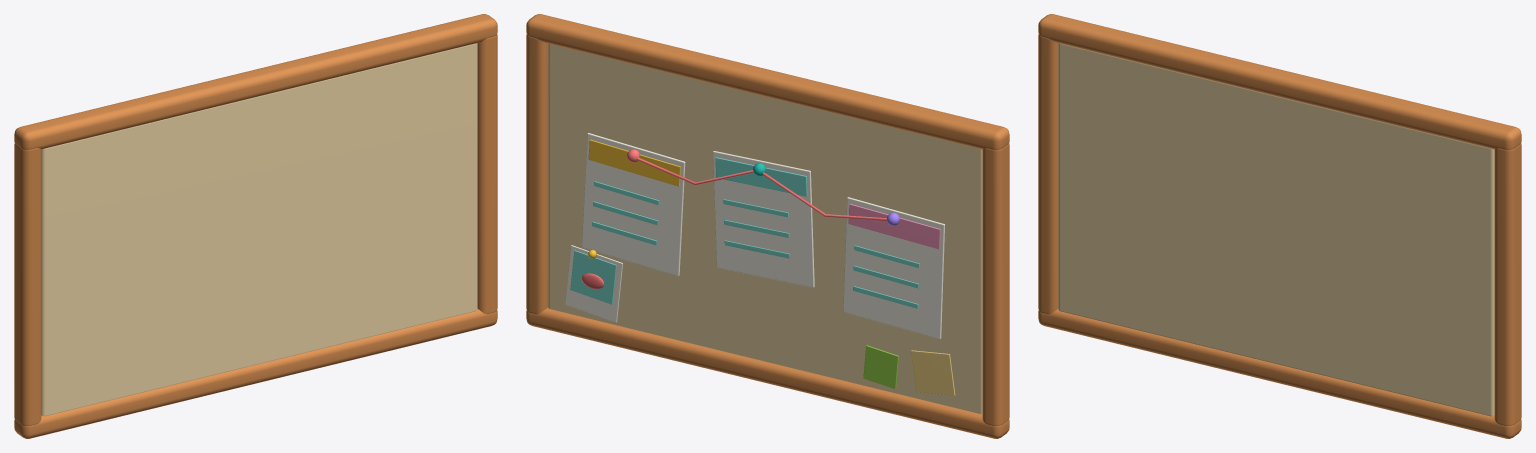
The model's file is Pinboard.fbx.
The picture shows the model from 3 angles, left to right: view 1: azimuth 30°, elevation 25°; view 2: azimuth 150°, elevation 25°; view 3: azimuth 330°, elevation 25°; orthographic projection.
Visible parts, largest first — view 1: Pinboard mesh; view 2: Pinboard mesh; view 3: Pinboard mesh.
Part boxes in pixels (left/top/right/bottom): Pinboard mesh: left=14, top=14, right=497, bottom=438; Pinboard mesh: left=526, top=14, right=1009, bottom=438; Pinboard mesh: left=1038, top=14, right=1521, bottom=438.
Bounding box in the file's own units: 1.46 × 0.9 × 0.088.
